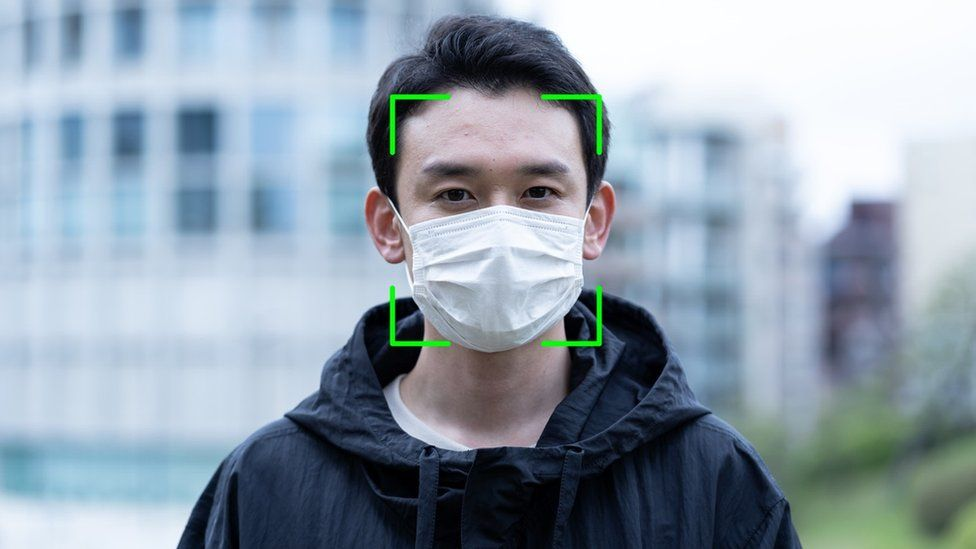with_mask: (397, 99, 597, 338)
